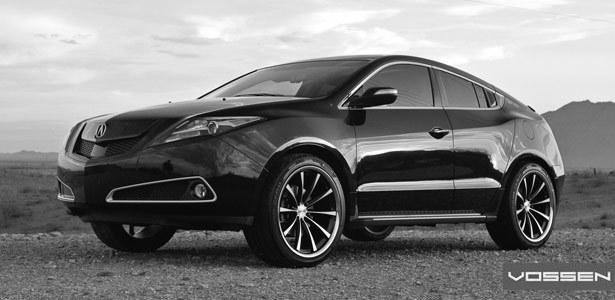car: (55, 53, 567, 269)
